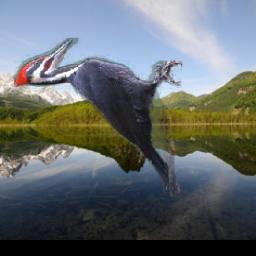Woodpecker: (15, 39, 183, 198)
